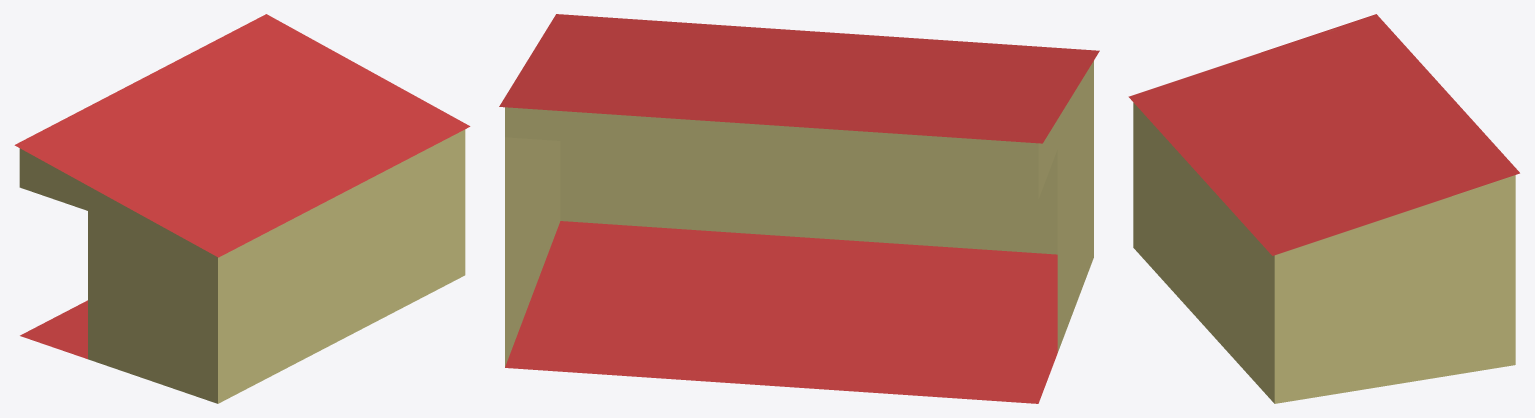
3 renders of one model, left to right at view 1: azimuth 30°, elevation 25°; view 2: azimuth 150°, elevation 25°; view 3: azimuth 270°, elevation 25°, orthographic. The views are drawn at different scales.
Bounding box in the file's own units: 31.53 × 26.21 × 14.2.
